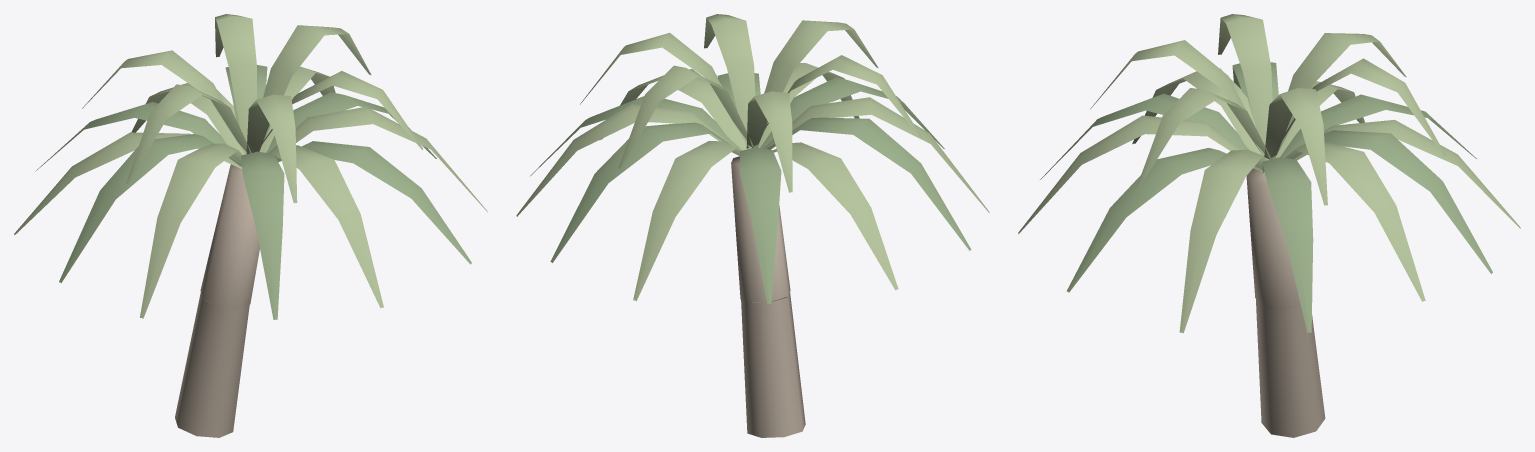
File: small_palm_6.glb
The picture shows the model from 3 angles, left to right: view 1: azimuth 30°, elevation 25°; view 2: azimuth 150°, elevation 25°; view 3: azimuth 270°, elevation 25°; orthographic projection. The views are drawn at different scales.
Visible parts, largest first — view 1: small_palm_6.glb; view 2: small_palm_6.glb; view 3: small_palm_6.glb.
Boxes of the visible parts, <box> form: small_palm_6.glb: <box>14,14,487,437</box>; small_palm_6.glb: <box>516,14,989,437</box>; small_palm_6.glb: <box>1018,14,1520,437</box>.
Bounding box in the file's own units: 2.8 × 2.44 × 2.82.
